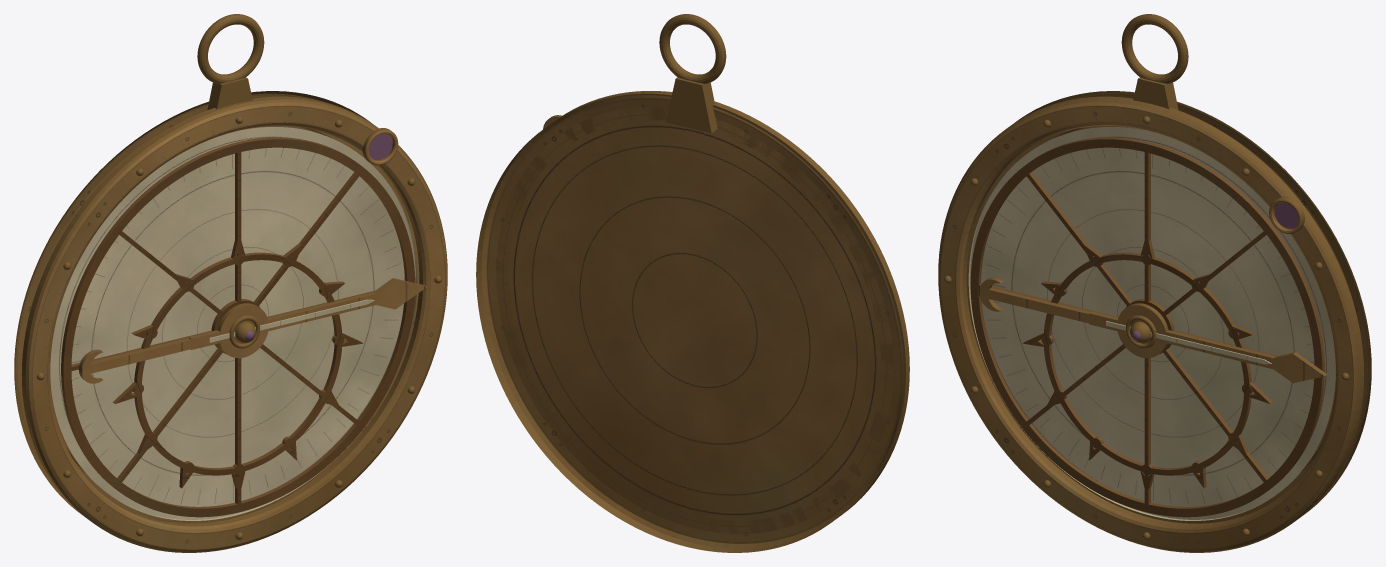
Rendered from astrolabe-main-v2.glb.
3 views of the same model, side by side, from view 1: azimuth 30°, elevation 25°; view 2: azimuth 150°, elevation 25°; view 3: azimuth 330°, elevation 25° (orthographic).
Visible parts, largest first — view 1: calendar_disc, outer_rim, rete, body, time_pointer_geom, suspension_ring, time_pointer_inlay, center_cap_geom, moon_seat_geom; view 2: body, outer_rim, suspension_ring; view 3: calendar_disc, outer_rim, rete, body, time_pointer_geom, suspension_ring, time_pointer_inlay, center_cap_geom, moon_seat_geom.
Part boxes in pixels (x1,y1,x2,y2): calendar_disc: (50,127,417,520); outer_rim: (21,96,447,552); rete: (61,137,415,517); body: (14,91,419,523); time_pointer_geom: (78,278,426,383); suspension_ring: (197,14,264,110); time_pointer_inlay: (209,299,374,342); center_cap_geom: (229,315,260,348); moon_seat_geom: (362,128,398,165); body: (476,95,903,552); outer_rim: (496,91,909,533); suspension_ring: (659,14,726,133); calendar_disc: (968,127,1335,520); outer_rim: (938,96,1364,552); rete: (970,137,1324,517); body: (966,91,1371,523); time_pointer_geom: (979,277,1326,383); suspension_ring: (1121,14,1188,110); time_pointer_inlay: (1106,321,1271,364); center_cap_geom: (1125,315,1156,348); moon_seat_geom: (1269,196,1304,234).
Bounding box in the file's own units: 0.24 × 0.2866 × 0.028.
4 materials, 3 textured.
